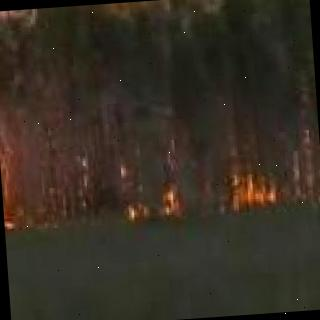fire: (228, 163, 288, 212), (128, 181, 181, 221), (0, 99, 7, 228)
